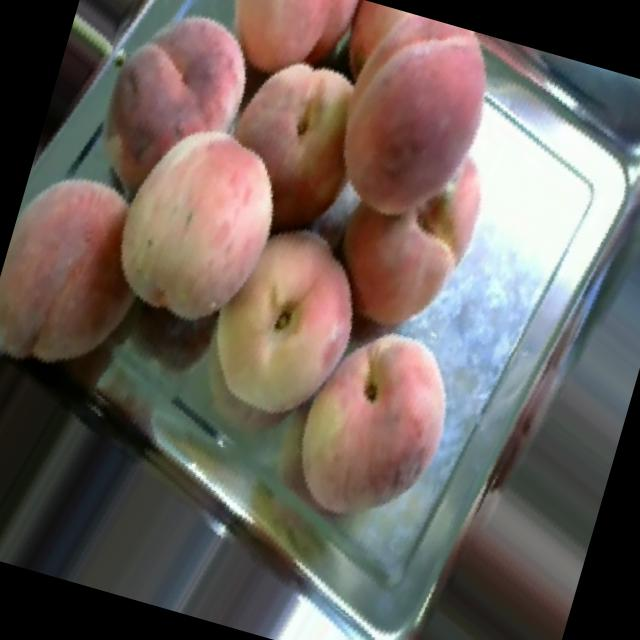Fruit: (60, 75, 332, 370), (165, 185, 404, 458), (250, 293, 492, 562), (289, 98, 526, 371), (297, 0, 534, 264), (53, 0, 286, 250), (0, 136, 192, 399), (177, 0, 359, 117)
